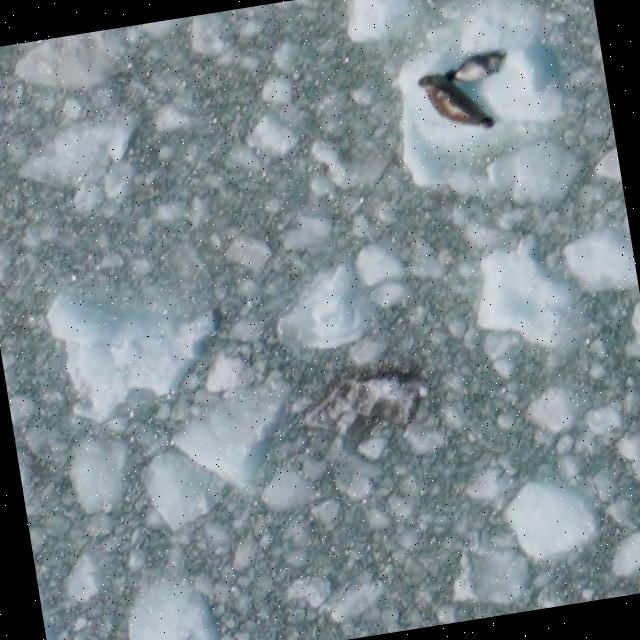seal: (408, 63, 497, 147), (443, 48, 509, 89)
